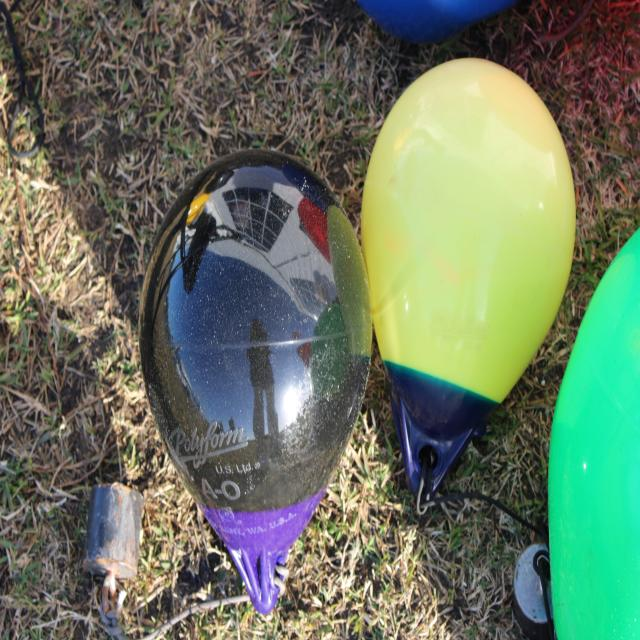black-buoy: (138, 144, 364, 623)
green-buoy: (537, 211, 640, 640)
yellow-duck: (353, 48, 578, 413)
